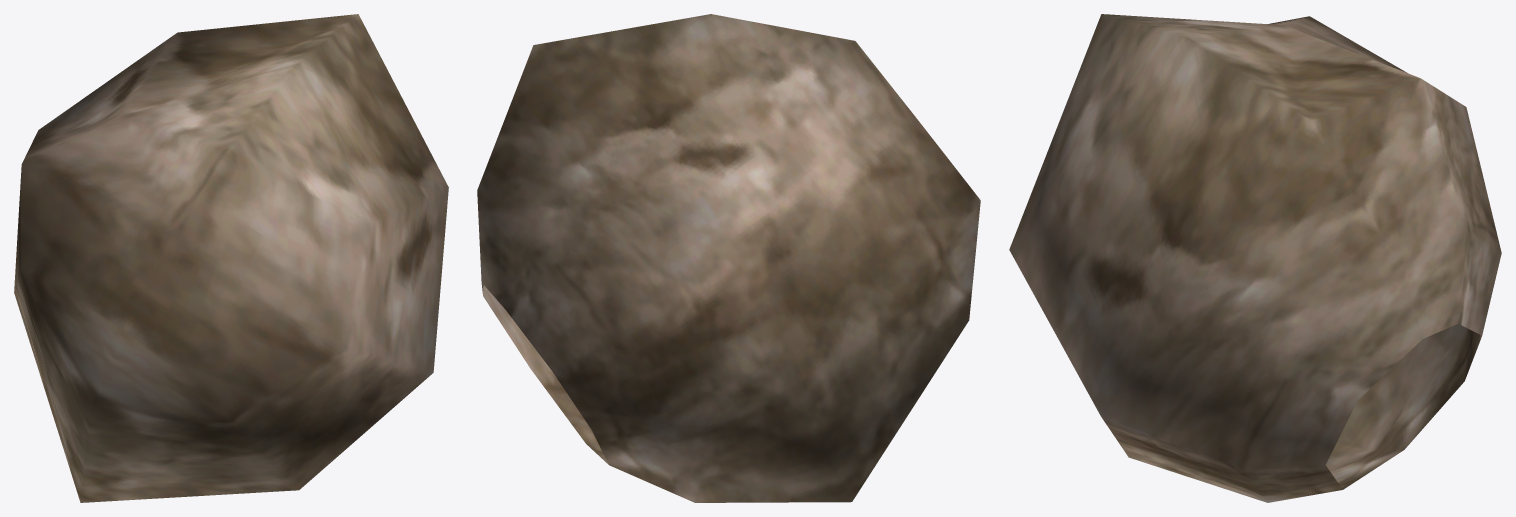
File: OVERHILL_A_01_ROCK77.fbx
3 views of the same model, side by side, from view 1: azimuth 30°, elevation 25°; view 2: azimuth 150°, elevation 25°; view 3: azimuth 270°, elevation 25° (orthographic). The views are drawn at different scales.
Parts seen in each view (by area): view 1: OVERHILL_A_01_ROCK77; view 2: OVERHILL_A_01_ROCK77; view 3: OVERHILL_A_01_ROCK77.
Part boxes in pixels (x1=…): OVERHILL_A_01_ROCK77: x1=14, y1=14, x2=448, y2=502; OVERHILL_A_01_ROCK77: x1=477, y1=14, x2=980, y2=502; OVERHILL_A_01_ROCK77: x1=1009, y1=14, x2=1501, y2=502.
Bounding box in the file's own units: 6245 × 5989 × 5875.
Materials: 1 (1 with a texture image).
